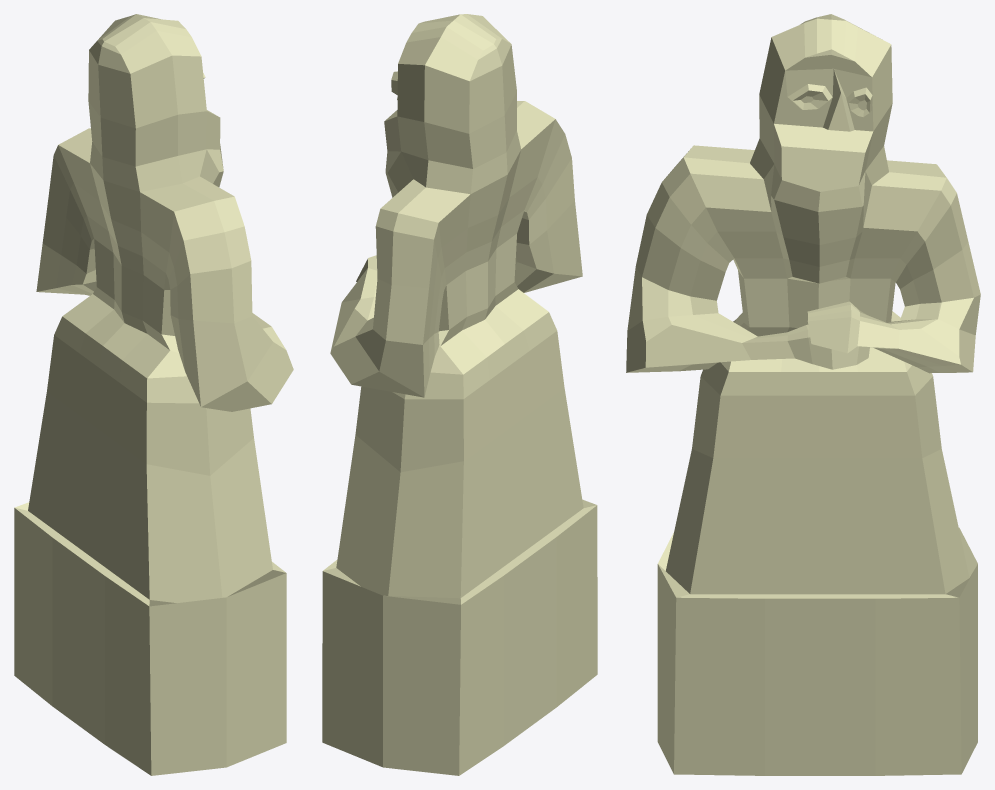
Rendered from CigalaSumerio.fbx.
The picture shows the model from 3 angles, left to right: view 1: azimuth 30°, elevation 25°; view 2: azimuth 150°, elevation 25°; view 3: azimuth 270°, elevation 25°; orthographic projection. The views are drawn at different scales.
Parts seen in each view (by area): view 1: Cube; view 2: Cube; view 3: Cube.
Part boxes in pixels (left/top/right/bottom): Cube: left=14, top=14, right=293, bottom=775; Cube: left=322, top=14, right=597, bottom=775; Cube: left=626, top=14, right=980, bottom=775.
Size of the model in its own units: 115 by 476 by 212.
